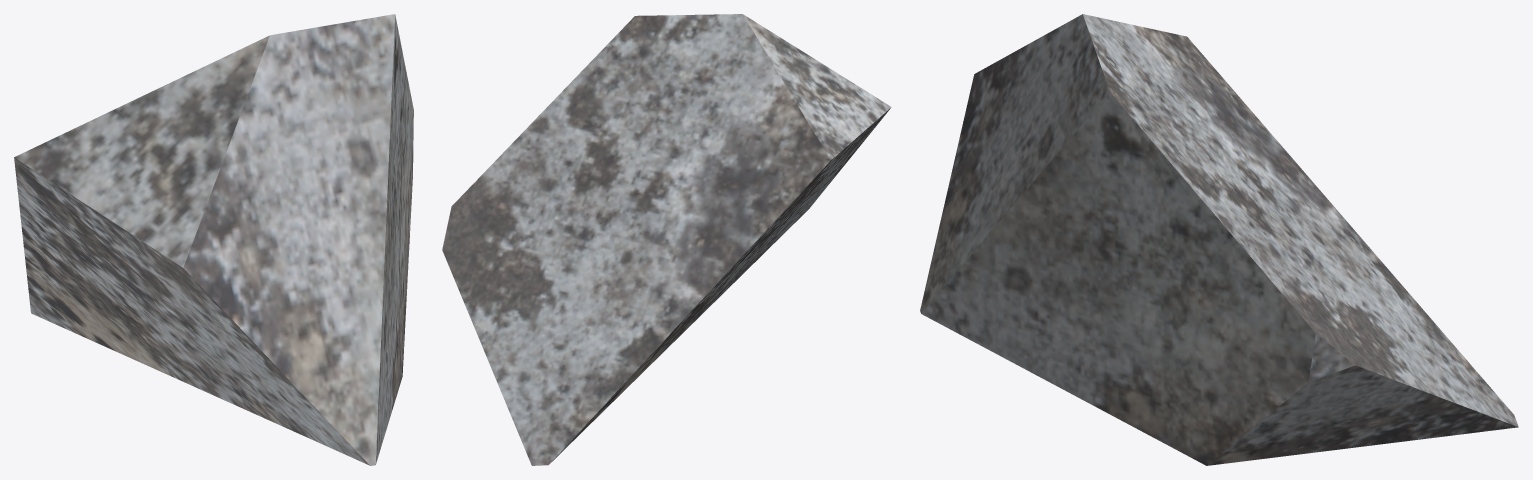
Rendered from Asteroid_Large_001_02_009_03_048.fbx.
The picture shows the model from 3 angles, left to right: view 1: azimuth 30°, elevation 25°; view 2: azimuth 150°, elevation 25°; view 3: azimuth 270°, elevation 25°; orthographic projection. The views are drawn at different scales.
Parts seen in each view (by area): view 1: Asteroid_Large_001_02_009_03_048; view 2: Asteroid_Large_001_02_009_03_048; view 3: Asteroid_Large_001_02_009_03_048.
Part boxes in pixels (left/top/right/bottom): Asteroid_Large_001_02_009_03_048: left=14, top=14, right=413, bottom=465; Asteroid_Large_001_02_009_03_048: left=442, top=14, right=891, bottom=465; Asteroid_Large_001_02_009_03_048: left=920, top=14, right=1518, bottom=465.
Bounding box in the file's own units: 6.46 × 6.2 × 8.51.
